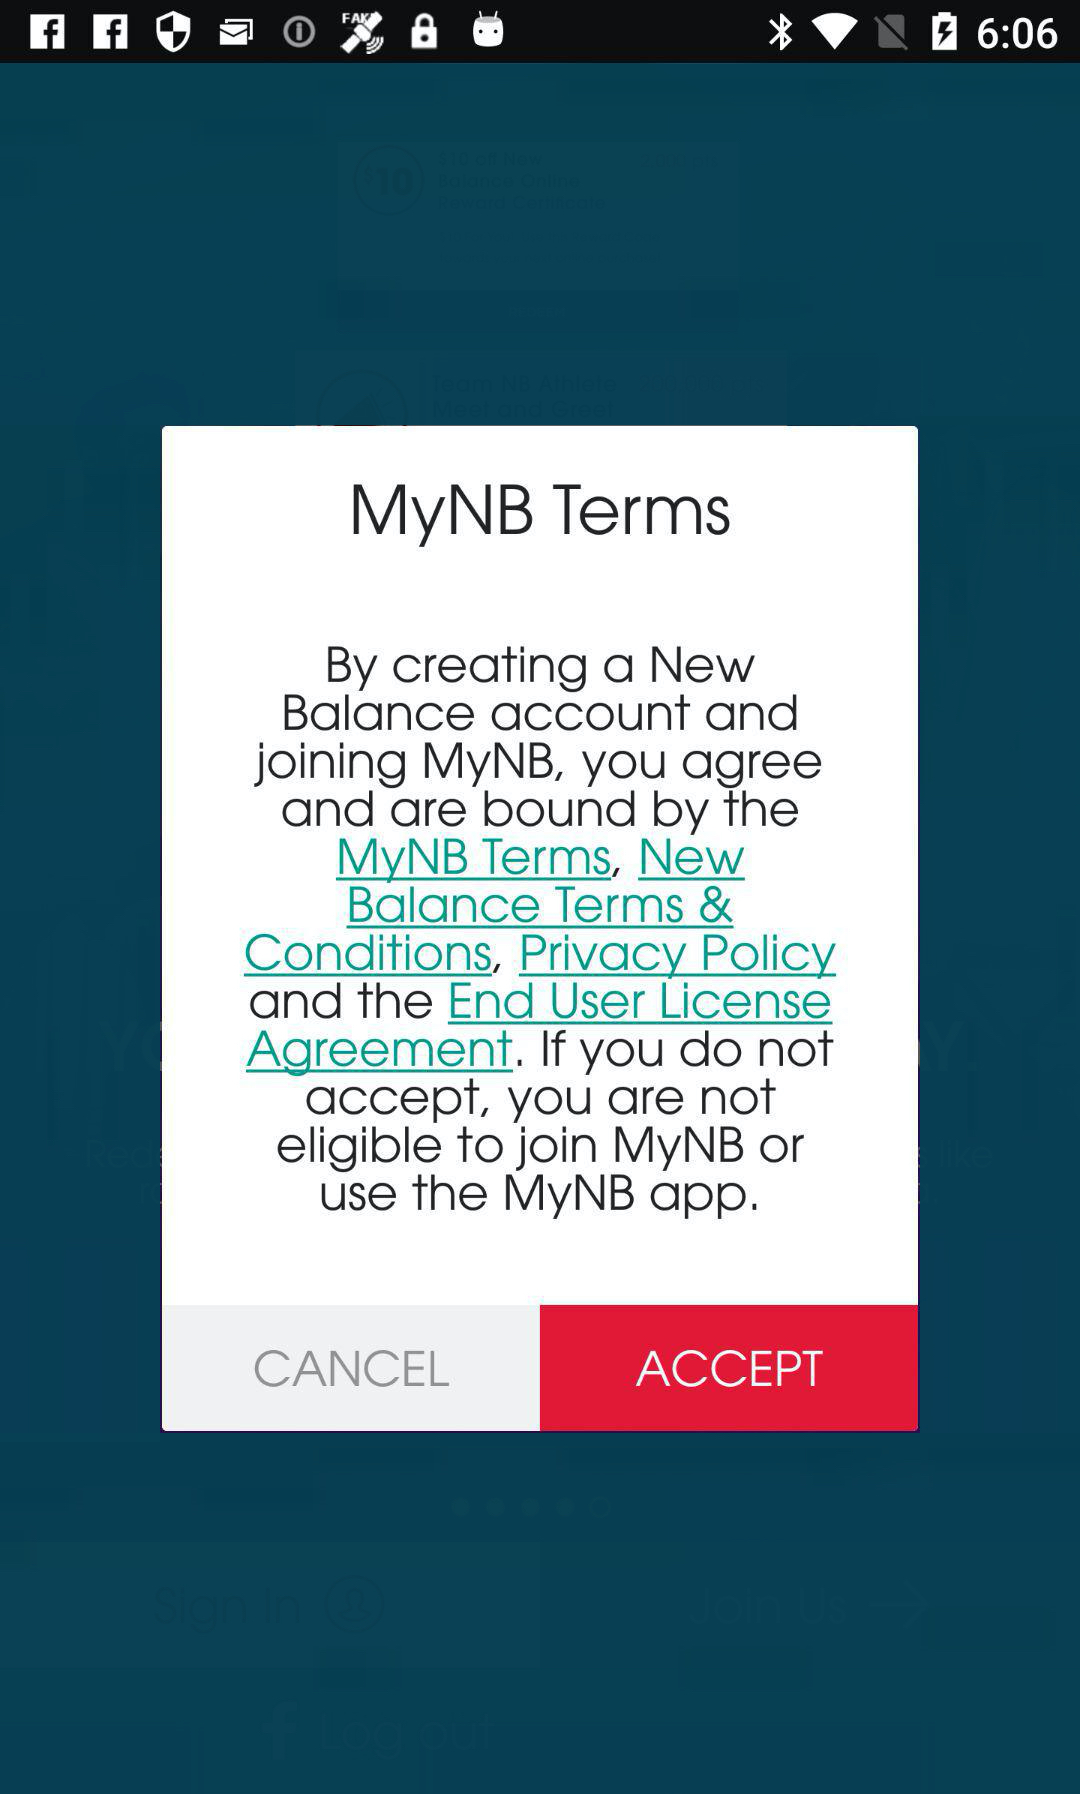Modal: (161, 425, 922, 1433)
Text: (243, 645, 838, 1222), (352, 483, 732, 548)
TextButton: (541, 1304, 919, 1433), (163, 1304, 541, 1433)
UpperTaskBar: (1, 1, 1080, 64)
